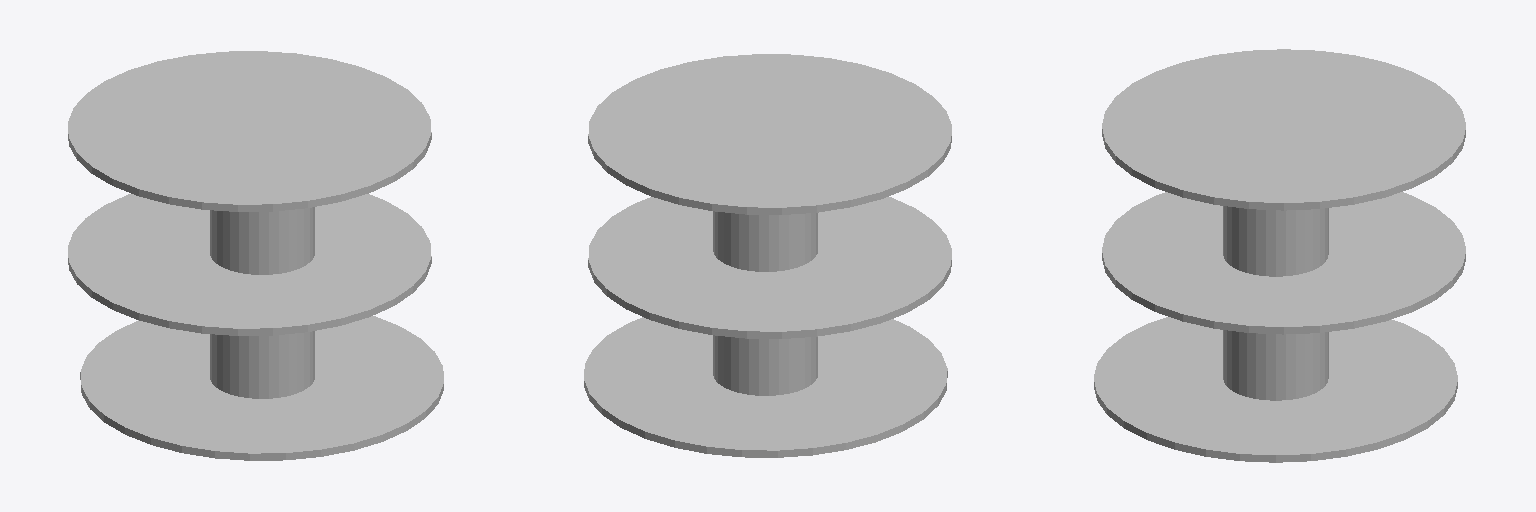
Rendered from HouseLayout.obj.
3 renders of one model, left to right at view 1: azimuth 30°, elevation 25°; view 2: azimuth 150°, elevation 25°; view 3: azimuth 270°, elevation 25°, orthographic.
Visible parts, largest first — view 1: Cylinder.003_Cylinder.004, Cylinder_Cylinder.001, Cylinder.002_Cylinder.003, Cylinder.001_Cylinder.002; view 2: Cylinder.003_Cylinder.004, Cylinder.002_Cylinder.003, Cylinder_Cylinder.001, Cylinder.001_Cylinder.002; view 3: Cylinder.003_Cylinder.004, Cylinder_Cylinder.001, Cylinder.002_Cylinder.003, Cylinder.001_Cylinder.002.
Boxes of the visible parts, box(x1,y1,x2,y2) form: Cylinder.003_Cylinder.004: box(68, 51, 431, 211); Cylinder_Cylinder.001: box(80, 316, 443, 460); Cylinder.002_Cylinder.003: box(68, 194, 431, 335); Cylinder.001_Cylinder.002: box(210, 207, 314, 398); Cylinder.003_Cylinder.004: box(588, 54, 951, 214); Cylinder.002_Cylinder.003: box(588, 197, 951, 338); Cylinder_Cylinder.001: box(584, 317, 947, 457); Cylinder.001_Cylinder.002: box(713, 211, 817, 395); Cylinder.003_Cylinder.004: box(1102, 49, 1465, 210); Cylinder_Cylinder.001: box(1094, 317, 1457, 462); Cylinder.002_Cylinder.003: box(1102, 192, 1465, 334); Cylinder.001_Cylinder.002: box(1223, 206, 1328, 400).
Size of the model in its own units: 4.49 by 3.37 by 4.47.